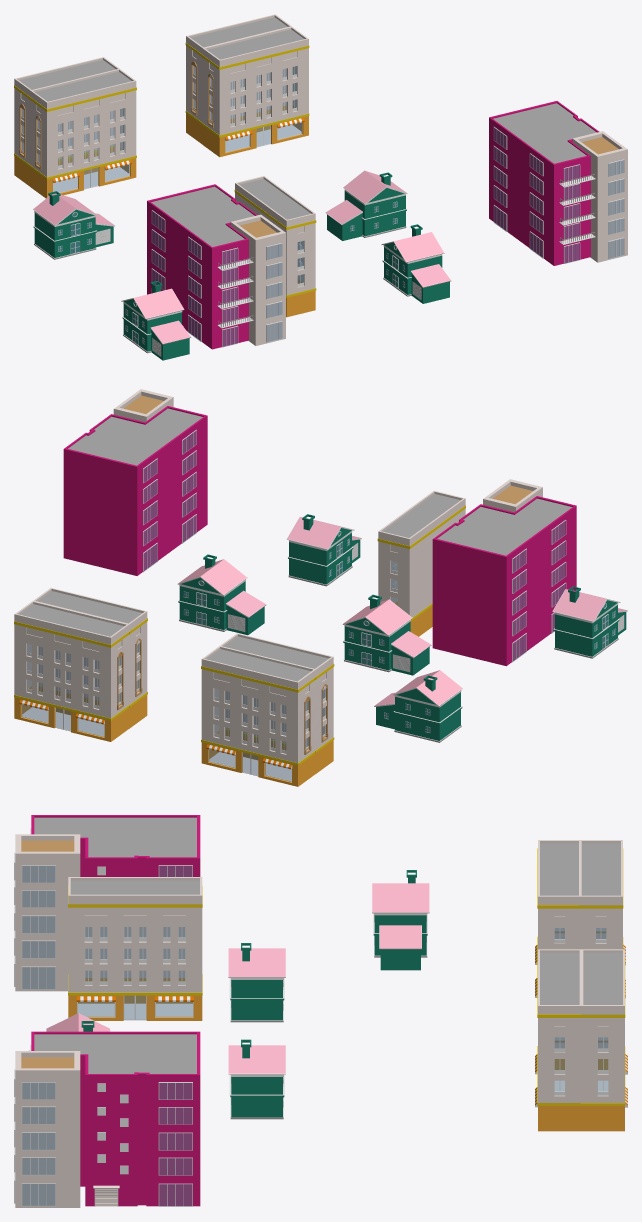
Rendered from Instacart_Project_residential_v4.gltf.
3 views of the same model, one above another, from view 1: azimuth 30°, elevation 25°; view 2: azimuth 150°, elevation 25°; view 3: azimuth 270°, elevation 25° (orthographic). The views are drawn at different scales.
Visible parts, largest first — view 1: House-Pink Light (×7), Cube-Mat.5 (×2), Cube-Grey (×2), house-dark blue (×4), Roof (×5), house-Mat.5 (×4), House-Orange (×4), Window1-Glass (×2), Windows2-Glass (×2), Cube.16-dark blue (×3), Window3-Glass (×2), Window4-Glass (×2) (+3 smaller); view 2: Cube-Mat.5 (×2), House-Pink Light (×7), house-dark blue (×5), Cube-Grey (×2), Roof (×5), house-Mat.5 (×5), House-Orange (×3), Window4-Glass (×2), Window3-Glass (×2), House-Yellow (×2), Cube.16-dark blue (×2), Cube.16-Mat.5 (×2); view 3: House-Pink Light (×7), Cube-Mat.5 (×2), Cube-Grey (×2), Roof (×5), Window1-Glass (×2), house-Mat.5 (×4), house-dark blue (×3), House-Orange (×3), Window5-Glass, Window1-white (×2), House-Brown (×2), House-Yellow (+7 smaller).
Boxes of the visible parts, <box> form: House-Pink Light (×7): <box>14,14,627,345</box>; Cube-Mat.5 (×2): <box>147,101,599,349</box>; Cube-Grey (×2): <box>151,103,596,246</box>; house-dark blue (×4): <box>33,188,442,351</box>; Roof (×5): <box>19,17,311,219</box>; house-Mat.5 (×4): <box>33,170,443,318</box>; House-Orange (×4): <box>14,106,315,317</box>; Window1-Glass (×2): <box>267,160,624,341</box>; Windows2-Glass (×2): <box>222,165,579,346</box>; Cube.16-dark blue (×3): <box>151,213,449,360</box>; Window3-Glass (×2): <box>188,154,542,340</box>; Window4-Glass (×2): <box>152,128,506,290</box>; Cube-Mat.5 (×2): <box>63,406,576,666</box>; House-Pink Light (×7): <box>14,389,542,762</box>; house-dark blue (×5): <box>178,528,619,740</box>; Cube-Grey (×2): <box>68,408,572,555</box>; Roof (×5): <box>19,494,460,681</box>; house-Mat.5 (×5): <box>178,517,613,705</box>; House-Orange (×3): <box>14,686,333,786</box>; Window4-Glass (×2): <box>144,459,526,661</box>; Window3-Glass (×2): <box>183,430,565,632</box>; House-Yellow (×2): <box>14,621,316,765</box>; Cube.16-dark blue (×2): <box>226,605,429,675</box>; Cube.16-Mat.5 (×2): <box>226,591,430,656</box>; House-Pink Light (×7): <box>15,834,624,1207</box>; Cube-Mat.5 (×2): <box>31,815,200,1206</box>; Cube-Grey (×2): <box>34,817,196,1073</box>; Roof (×5): <box>70,843,622,1004</box>; Window1-Glass (×2): <box>22,866,55,1205</box>; house-Mat.5 (×4): <box>46,883,429,1073</box>; house-dark blue (×3): <box>230,915,427,1117</box>; House-Orange (×3): <box>68,978,624,1131</box>; Window5-Glass: <box>159,1083,192,1206</box>; Window1-white (×2): <box>14,852,55,1206</box>; House-Brown (×2): <box>21,840,74,1068</box>; House-Yellow: <box>68,886,202,995</box>.
Size of the model in its own units: 1566 by 340 by 1375.
